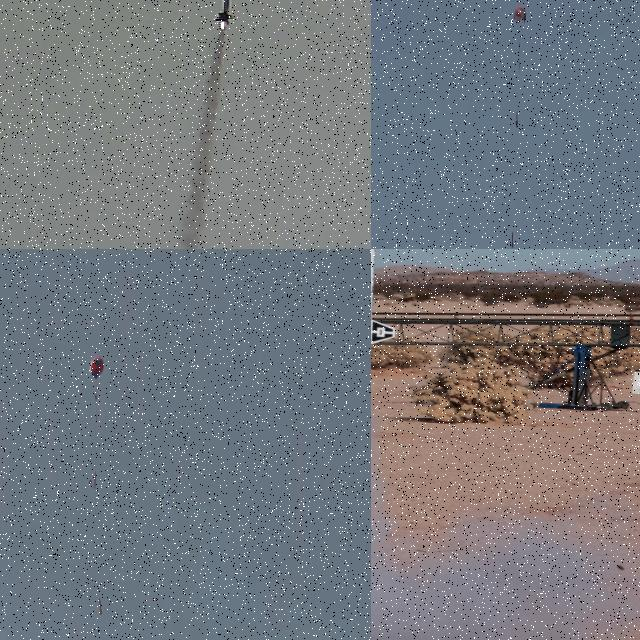Rocket: (212, 0, 236, 23), (98, 597, 103, 616), (511, 232, 514, 248)
